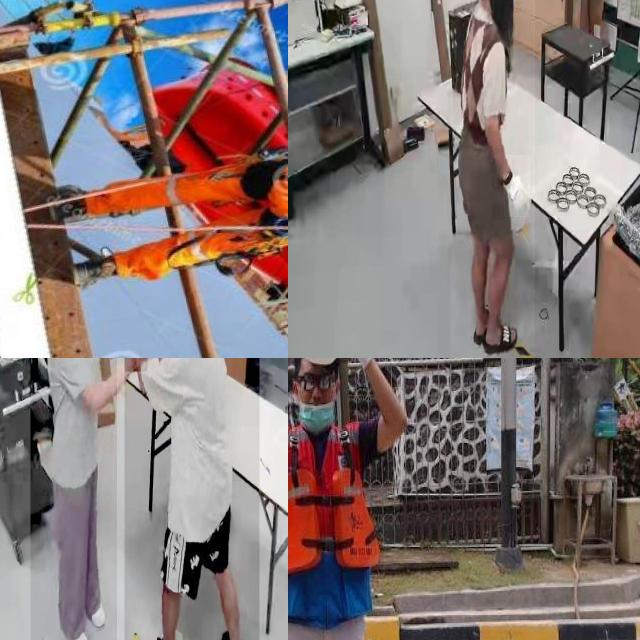hand_glove: (504, 154, 530, 218)
hand_noglove: (124, 358, 147, 372)
person: (124, 358, 259, 640), (288, 358, 419, 640), (450, 0, 535, 358), (30, 358, 117, 640)
shoes: (82, 583, 108, 631), (59, 610, 90, 640), (215, 624, 250, 640)
vest: (288, 421, 377, 616)
